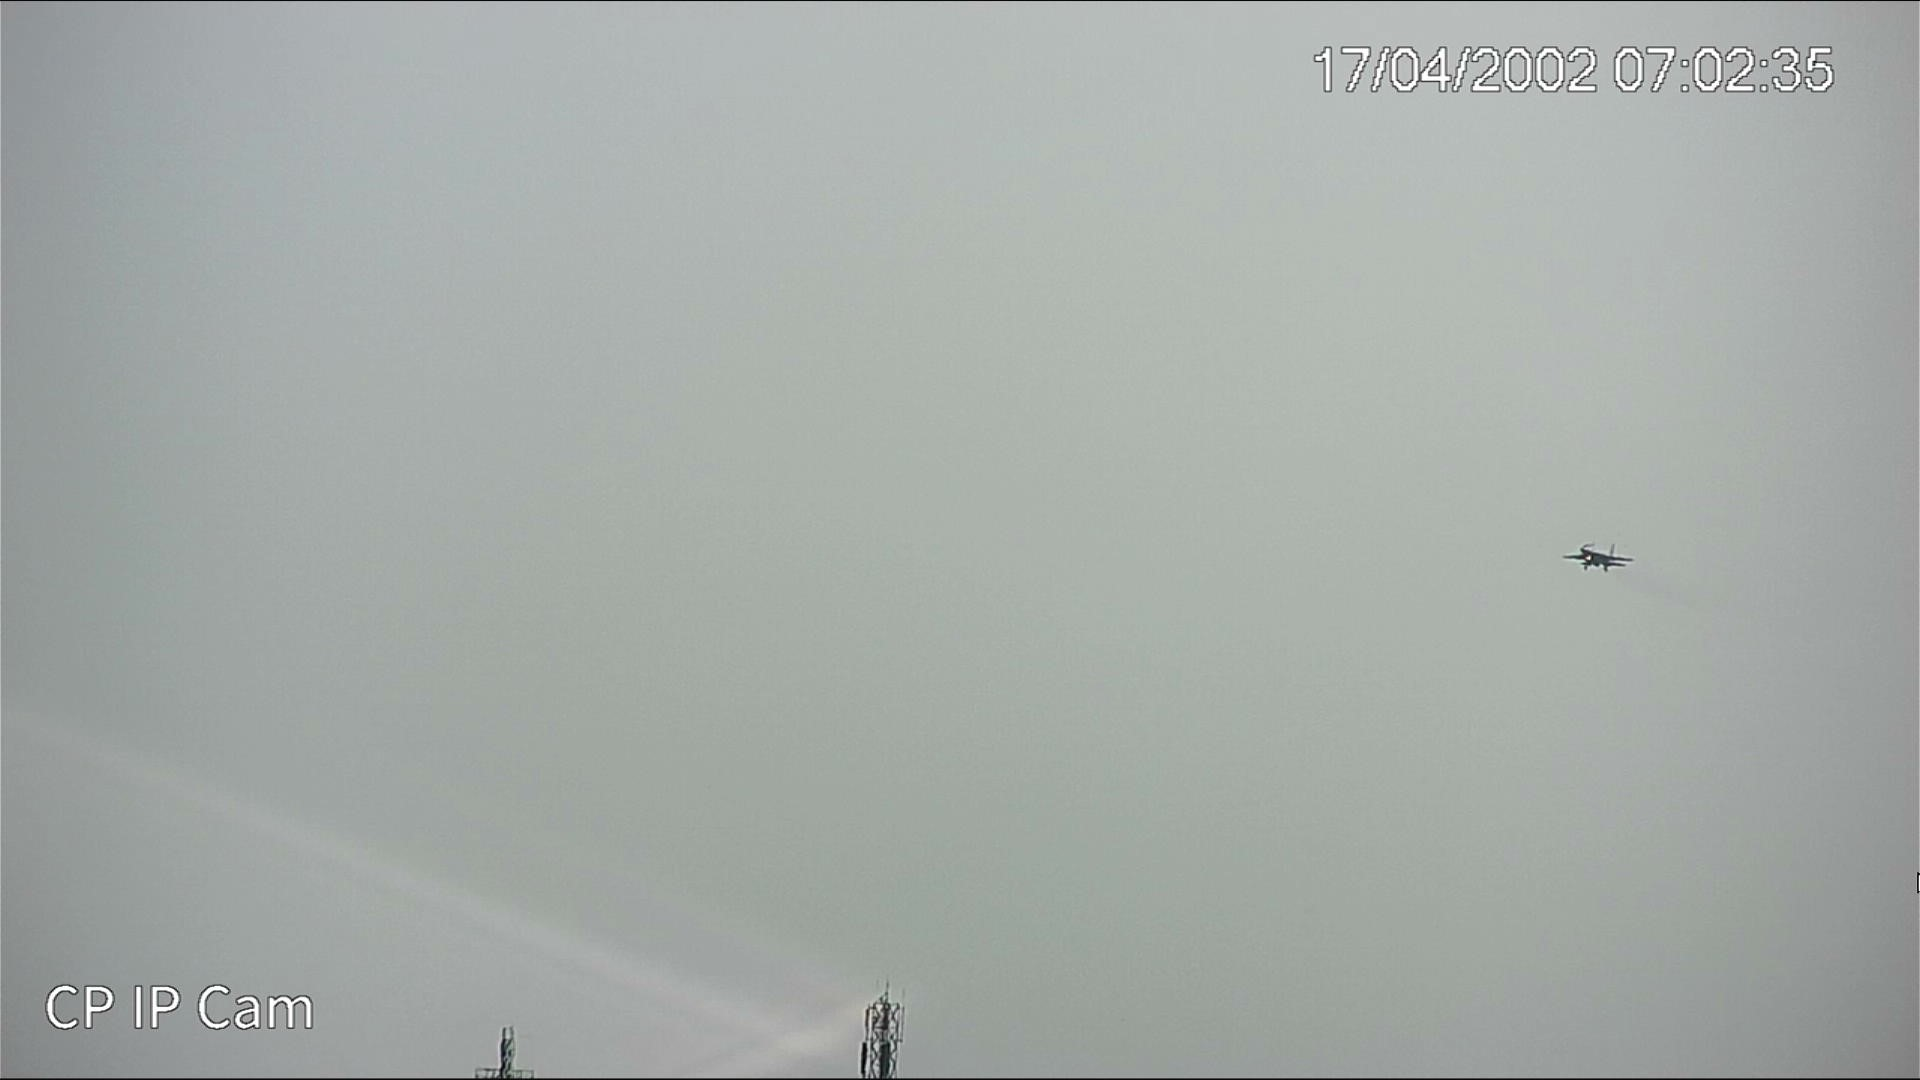SU_30: (1564, 545, 1635, 571)
